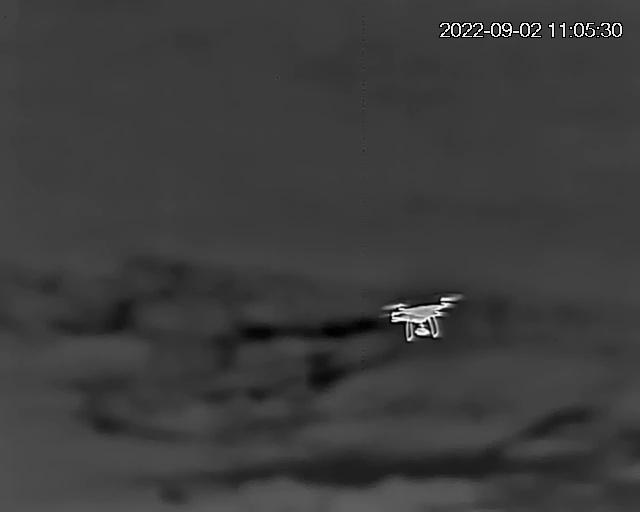DJI-Phantom: (384, 294, 464, 342)
